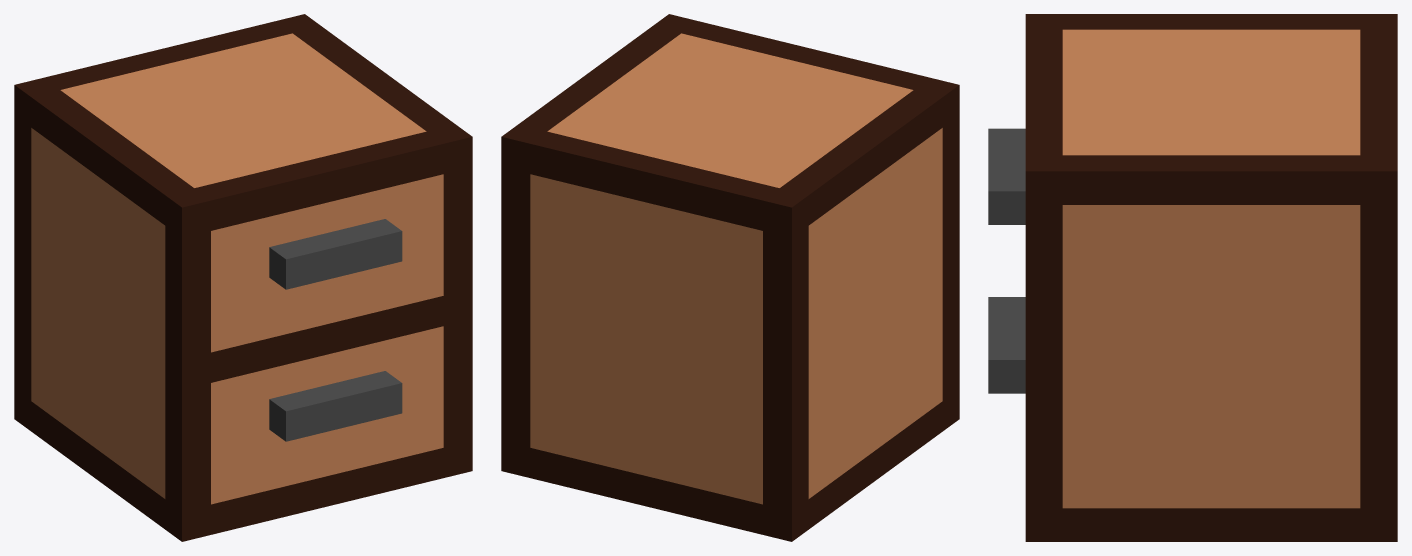
Rendered from Bedside table.obj.
The picture shows the model from 3 angles, left to right: view 1: azimuth 30°, elevation 25°; view 2: azimuth 150°, elevation 25°; view 3: azimuth 270°, elevation 25°; orthographic projection. The views are drawn at different scales.
Bounding box in the file's own units: 1 × 1.1 × 1.1.
Materials: 1 (1 with a texture image).
